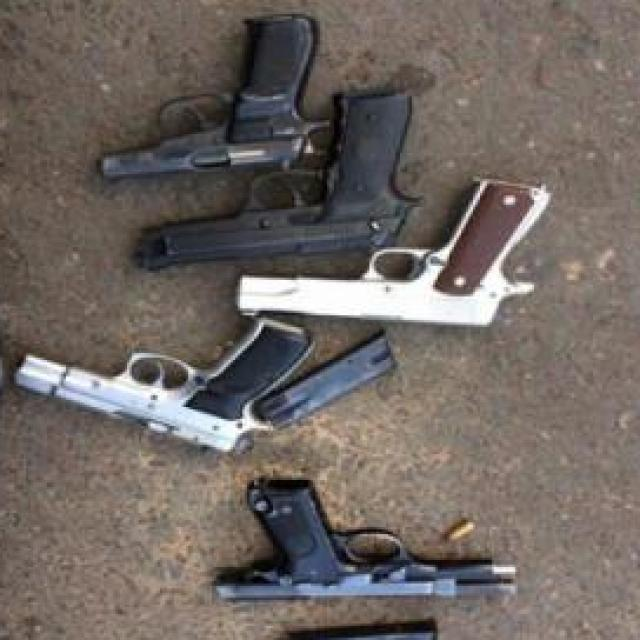pistol: (134, 90, 433, 270), (228, 173, 556, 322), (7, 321, 322, 457), (210, 470, 522, 604), (95, 15, 334, 181)
